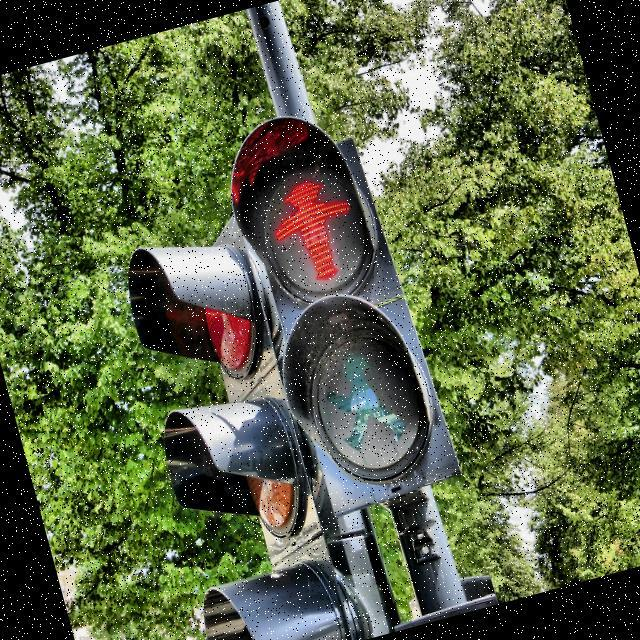red_light: (259, 164, 372, 295)
